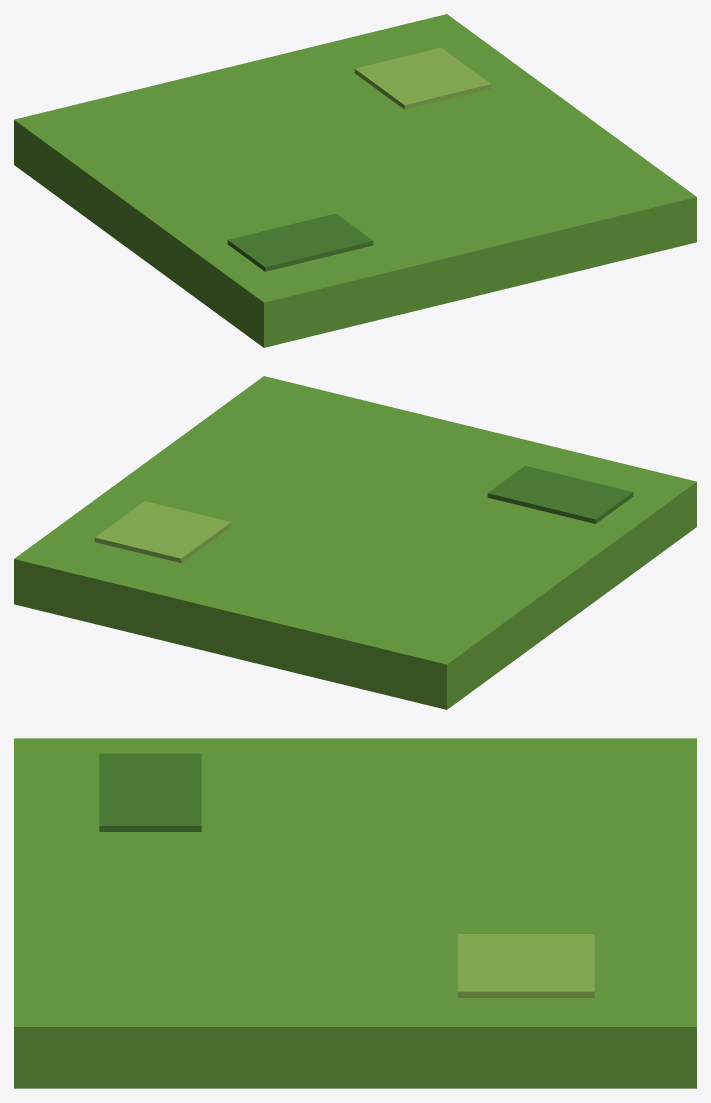
Rendered from ground_tile.glb.
3 renders of one model, top to bottom at view 1: azimuth 30°, elevation 25°; view 2: azimuth 150°, elevation 25°; view 3: azimuth 270°, elevation 25°, orthographic. The views are drawn at different scales.
Parts seen in each view (by area): view 1: body; view 2: body; view 3: body.
Part boxes in pixels (x1,y1,x2,y2): body: (14, 14, 696, 347); body: (14, 376, 696, 709); body: (14, 738, 696, 1088).
Bounding box in the file's own units: 1 × 0.11 × 1.
